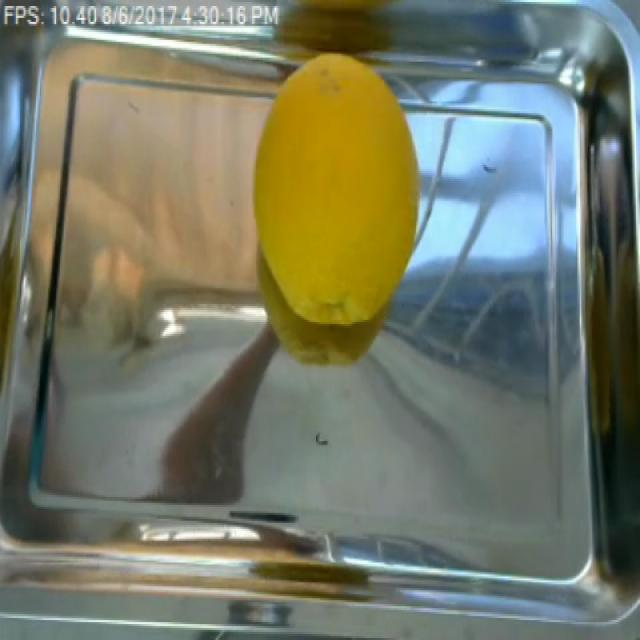Fruit: (246, 48, 430, 338)
